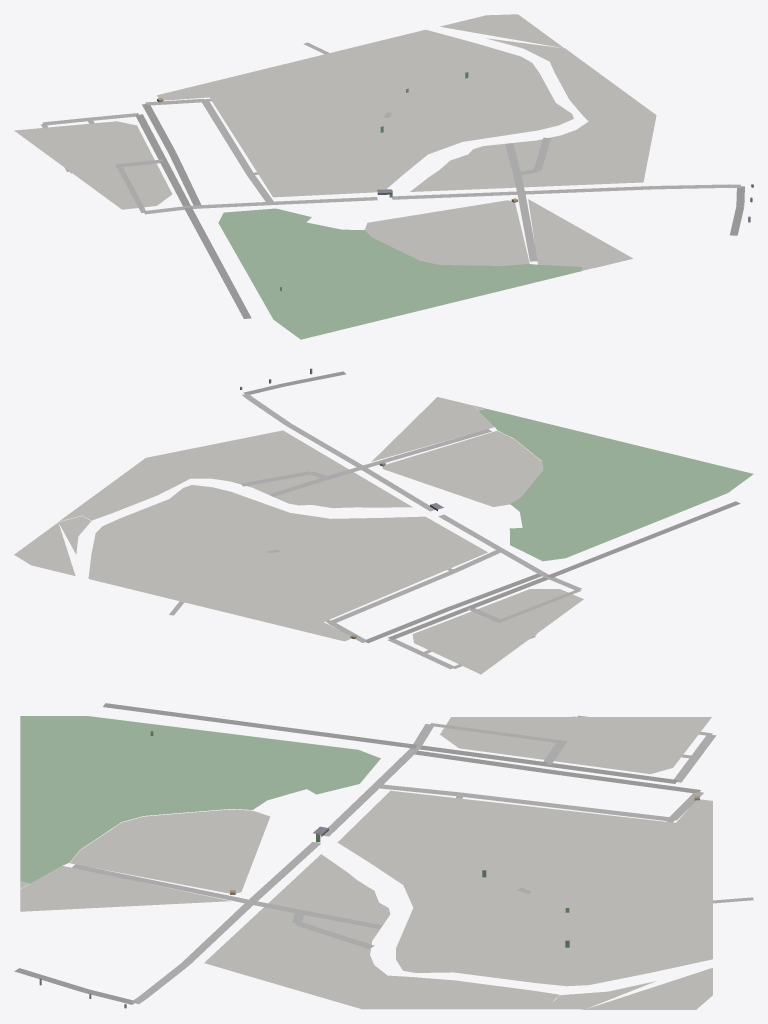
The picture shows the model from 3 angles, top to bottom: view 1: azimuth 30°, elevation 25°; view 2: azimuth 150°, elevation 25°; view 3: azimuth 270°, elevation 25°; orthographic projection. The views are drawn at different scales.
Bounding box in the file's own units: 522 × 7.67 × 534.
